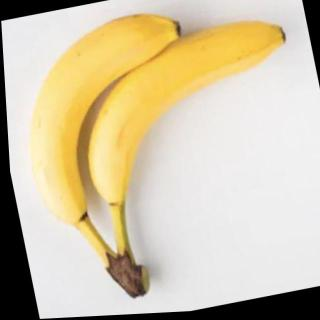banana: (62, 12, 314, 210), (2, 6, 216, 234)
